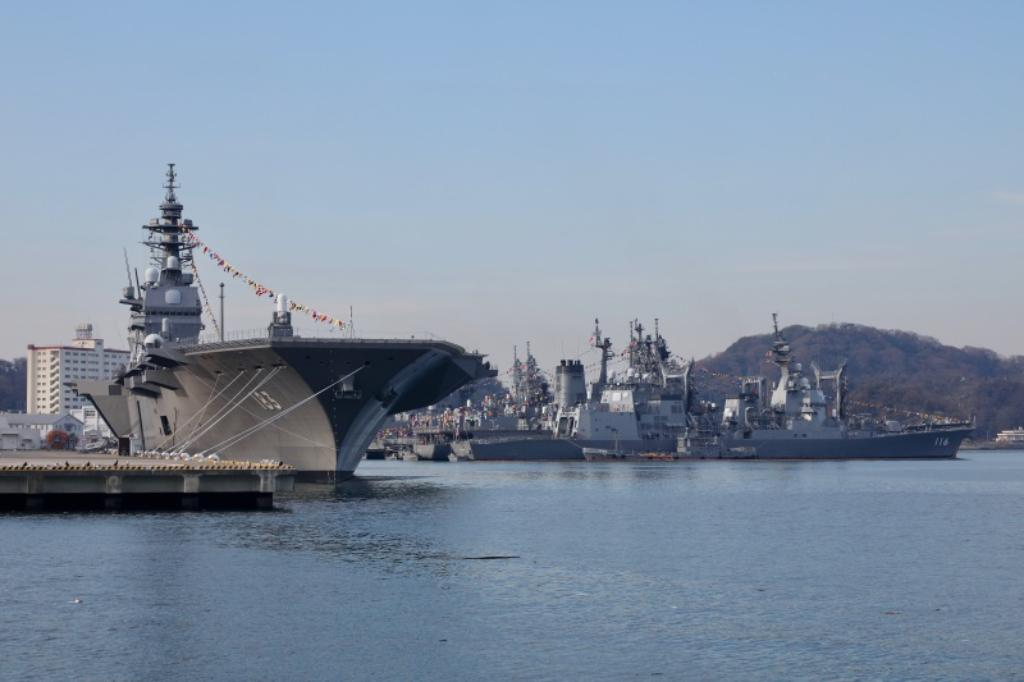Warship: (58, 153, 490, 482), (410, 298, 974, 468)
